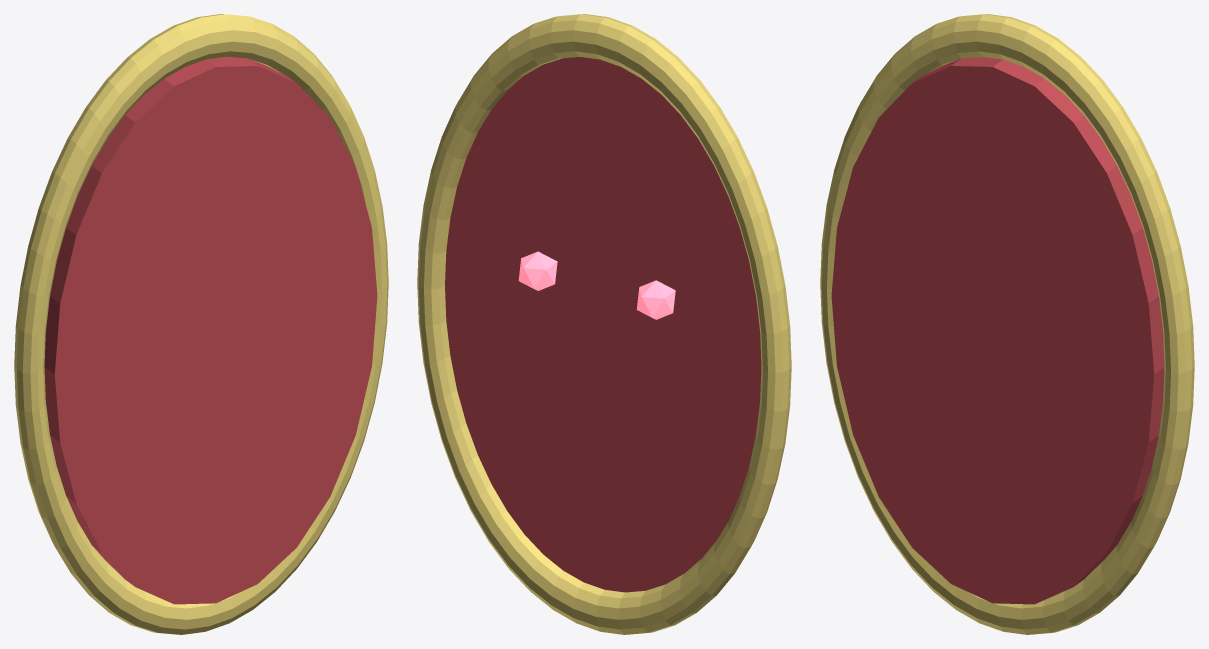
The model's file is dragon_shield.glb.
3 renders of one model, left to right at view 1: azimuth 30°, elevation 25°; view 2: azimuth 150°, elevation 25°; view 3: azimuth 330°, elevation 25°, orthographic.
Visible parts, largest first — view 1: Cylinder, Torus; view 2: Cylinder, Torus, Icosphere.001, Icosphere; view 3: Cylinder, Torus.
Part boxes in pixels (bbox=[...]): Cylinder: bbox=[44, 56, 377, 604]; Torus: bbox=[14, 14, 388, 634]; Cylinder: bbox=[445, 57, 761, 592]; Torus: bbox=[417, 14, 791, 634]; Icosphere.001: bbox=[518, 251, 557, 290]; Icosphere: bbox=[636, 280, 675, 319]; Cylinder: bbox=[831, 56, 1164, 604]; Torus: bbox=[820, 14, 1194, 634].
Size of the model in its own units: 0.8755 by 1.39 by 0.1283.
